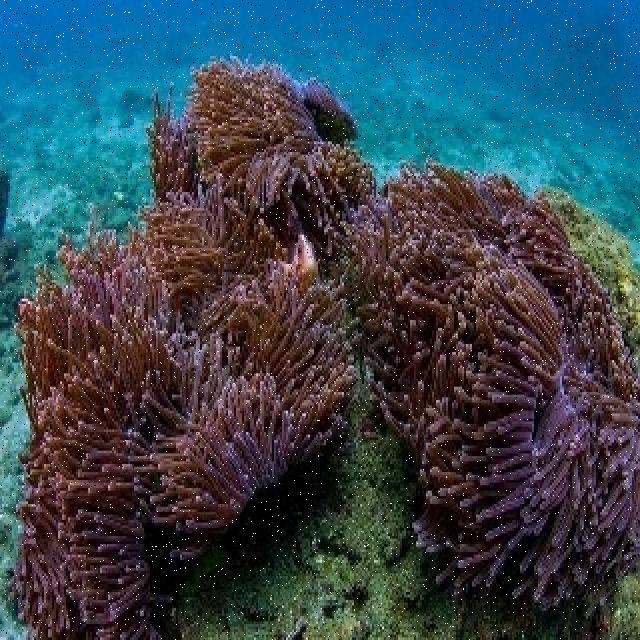fish: (280, 235, 320, 285)
reefs: (8, 55, 638, 637)
